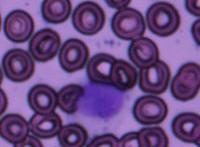L: (75, 80, 127, 120)
